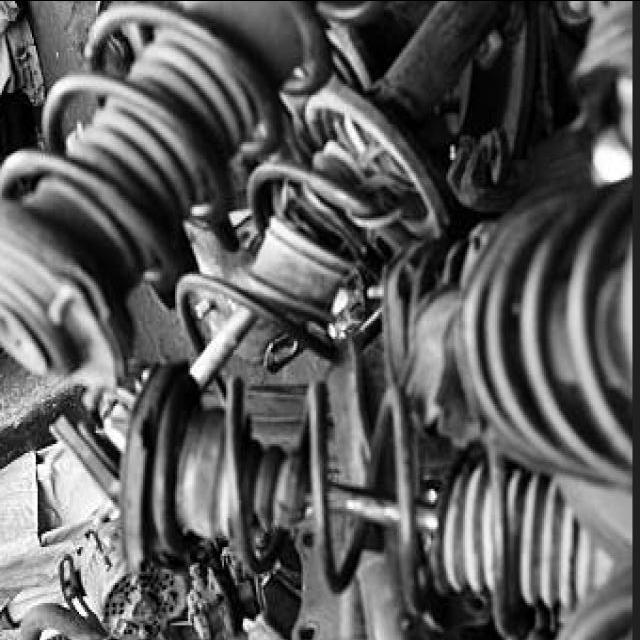shock absorber: (120, 361, 613, 640), (2, 2, 334, 387)
